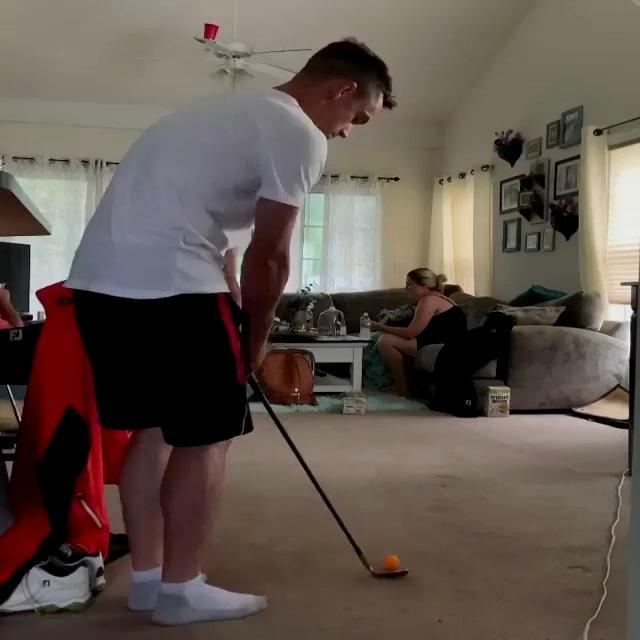golf ball: (383, 555, 401, 569)
golf club-handle: (250, 375, 409, 579)
golf club-head: (370, 567, 408, 579)
